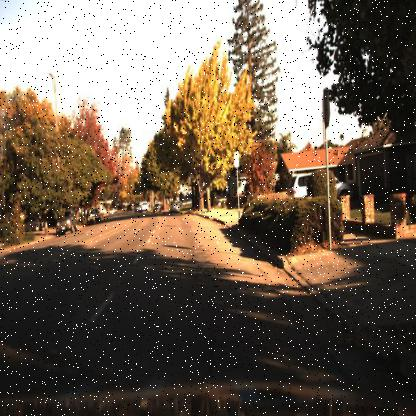car: (284, 168, 351, 198), (53, 209, 78, 238), (54, 208, 75, 236), (20, 215, 46, 232), (87, 204, 101, 228), (167, 200, 182, 218), (139, 200, 149, 216), (169, 199, 181, 212)
